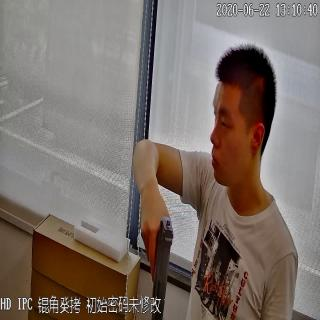gun: (140, 208, 175, 320)
